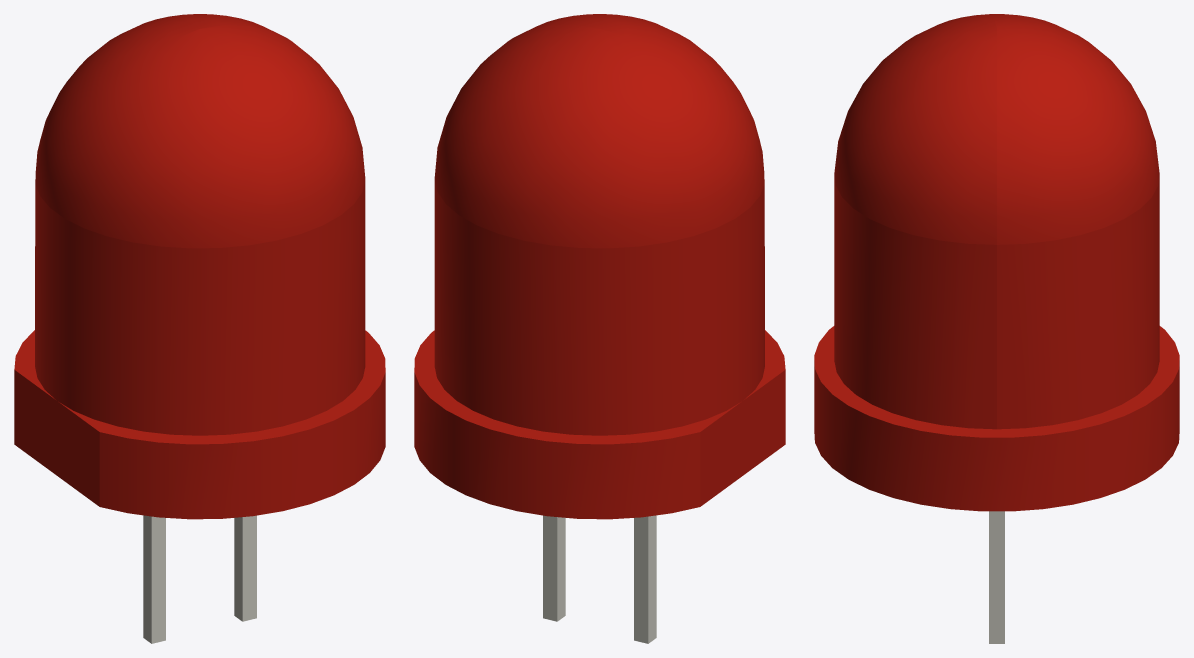
Rendered from kc-led_d8.0mm.glb.
The picture shows the model from 3 angles, left to right: view 1: azimuth 30°, elevation 25°; view 2: azimuth 150°, elevation 25°; view 3: azimuth 270°, elevation 25°; orthographic projection.
Parts seen in each view (by area): view 1: 0.4166666666666667_0_0_0, 0.6666666666666666_0.6666666666666666_0.5833333333333334_0.8; view 2: 0.4166666666666667_0_0_0, 0.6666666666666666_0.6666666666666666_0.5833333333333334_0.8; view 3: 0.4166666666666667_0_0_0, 0.6666666666666666_0.6666666666666666_0.5833333333333334_0.8.
Part boxes in pixels (x1=…): 0.4166666666666667_0_0_0: x1=14, y1=14, x2=385, y2=519; 0.6666666666666666_0.6666666666666666_0.5833333333333334_0.8: x1=143, y1=515, x2=256, y2=643; 0.4166666666666667_0_0_0: x1=414, y1=14, x2=785, y2=519; 0.6666666666666666_0.6666666666666666_0.5833333333333334_0.8: x1=543, y1=515, x2=656, y2=643; 0.4166666666666667_0_0_0: x1=814, y1=14, x2=1179, y2=511; 0.6666666666666666_0.6666666666666666_0.5833333333333334_0.8: x1=989, y1=511, x2=1004, y2=643.
Bounding box in the file's own units: 0.8484 × 1.6 × 0.8982.
